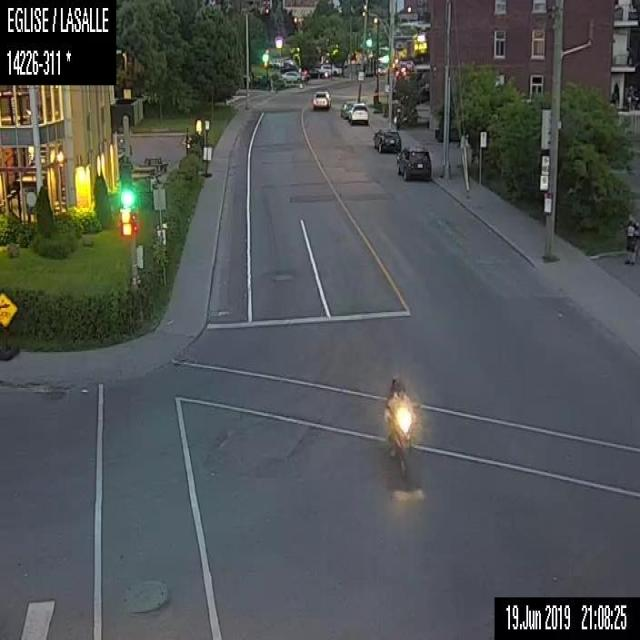vehicle: (382, 370, 414, 474), (396, 143, 431, 183), (372, 125, 401, 153), (350, 101, 369, 127), (311, 88, 331, 107), (319, 62, 341, 79), (280, 68, 299, 86), (338, 98, 354, 117)
